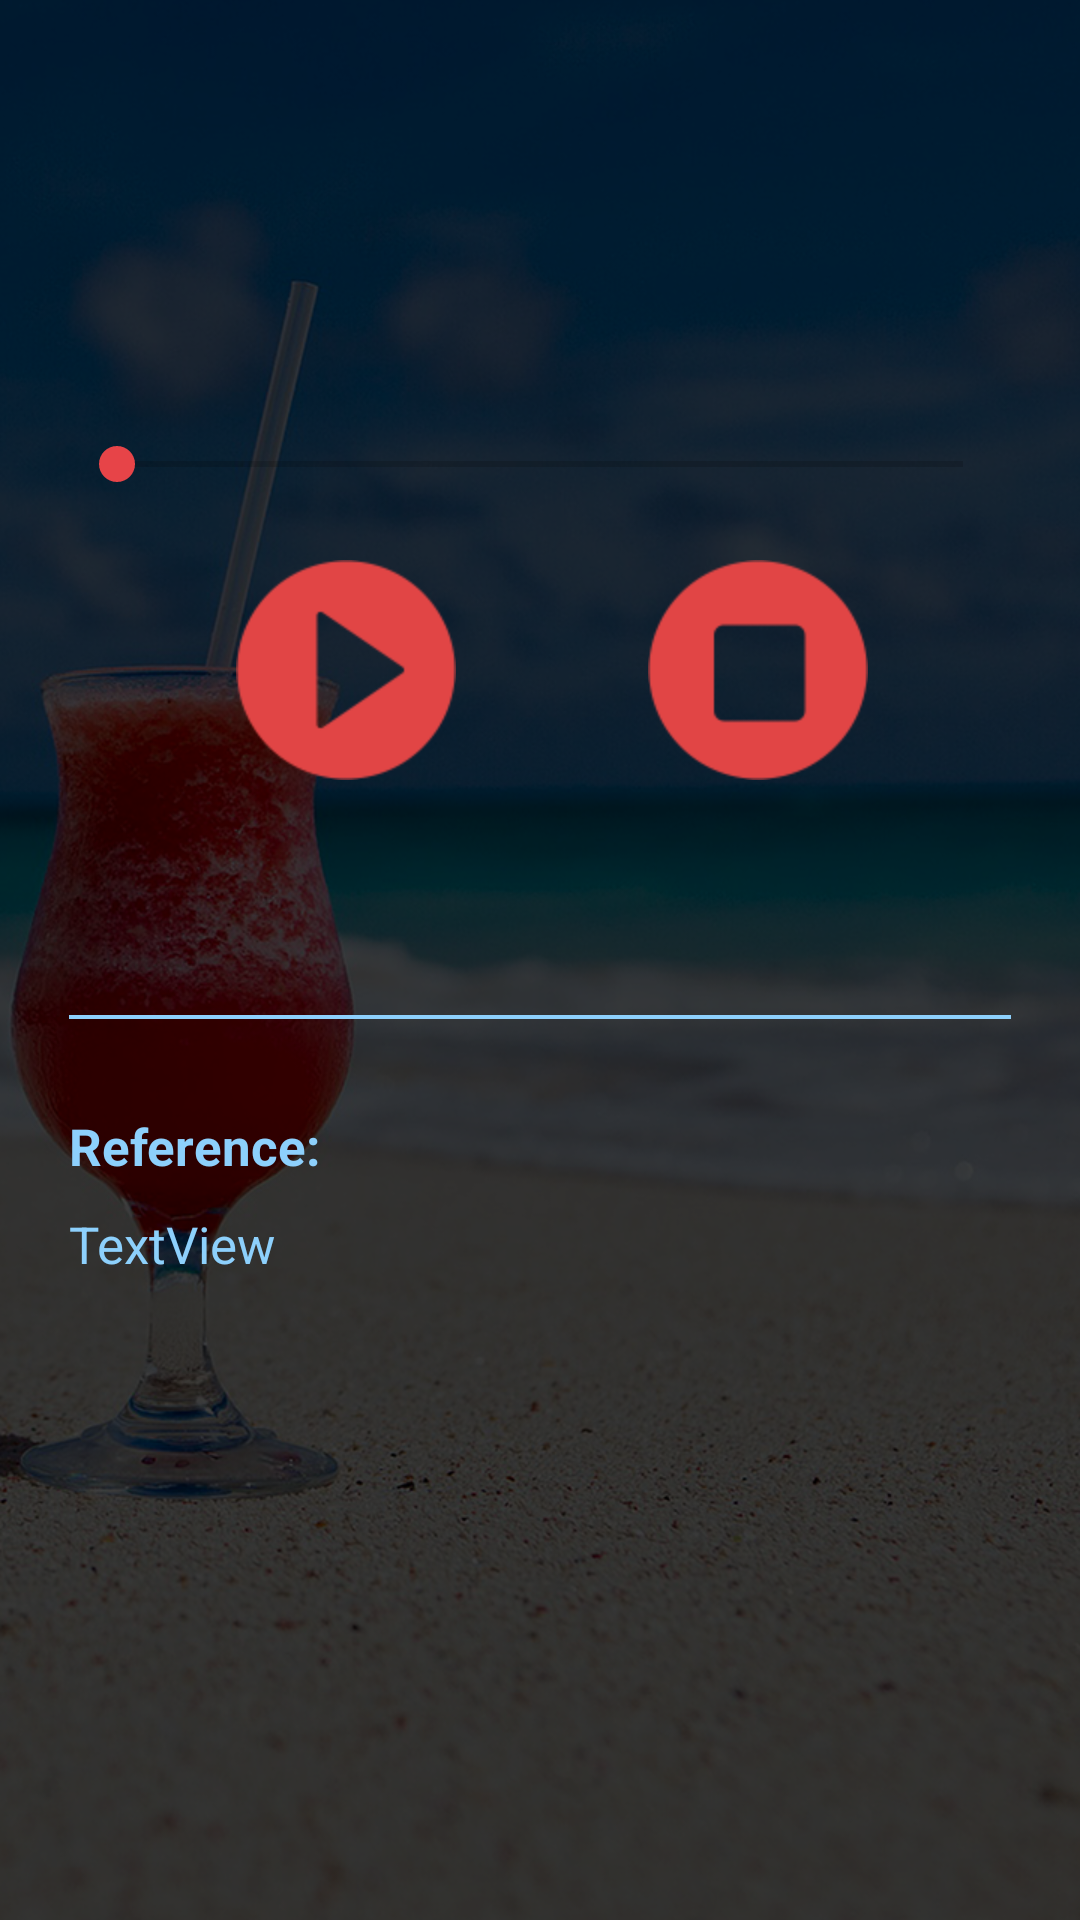

Icons on this 1080 × 1920 Android screen, each with its box as detection(x1, y1, x2, y2):
play: detection(236, 560, 456, 780)
stop: detection(648, 560, 868, 780)
